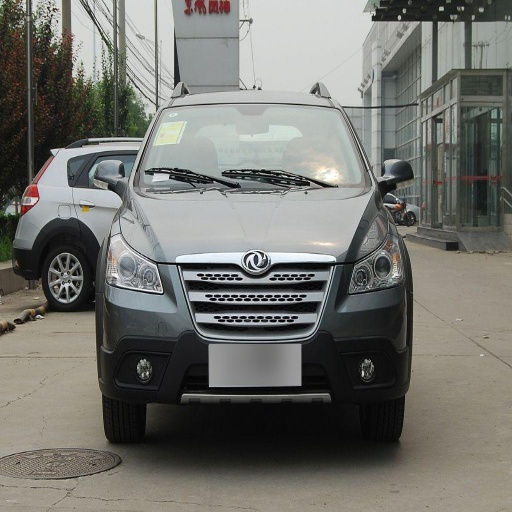front_bumper: (99, 251, 407, 406)
front_right_light: (107, 217, 165, 294)
hood: (127, 177, 387, 262)
